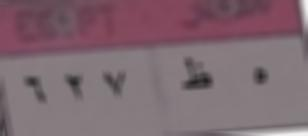2: (65, 69, 87, 102)
6: (23, 72, 50, 110)
7: (95, 65, 133, 103)
Thaa: (177, 55, 216, 94)
haa: (248, 63, 270, 93)
